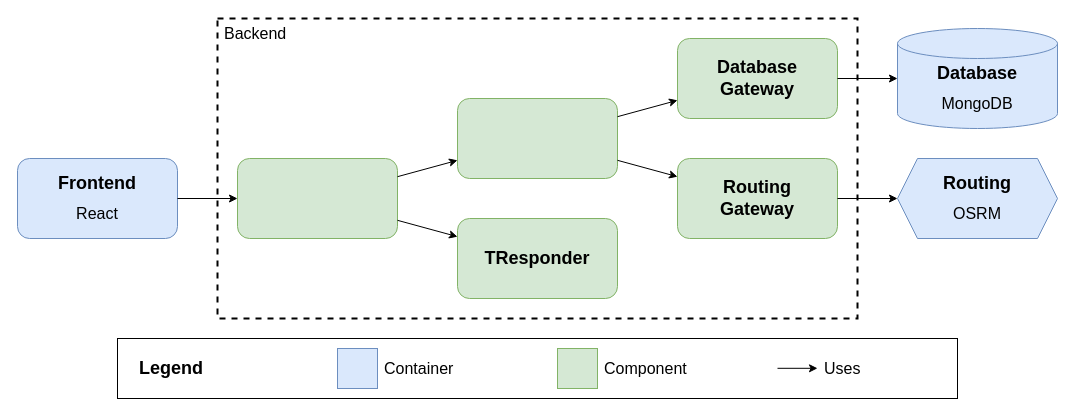
Some shapes in this 1075 by 416 pixel diagram are drawn without their labels. Here are the shapes that lost their labels. From the top down, the box of each, then its label:
(456, 98, 618, 178): THandler
(236, 158, 398, 238): TController
